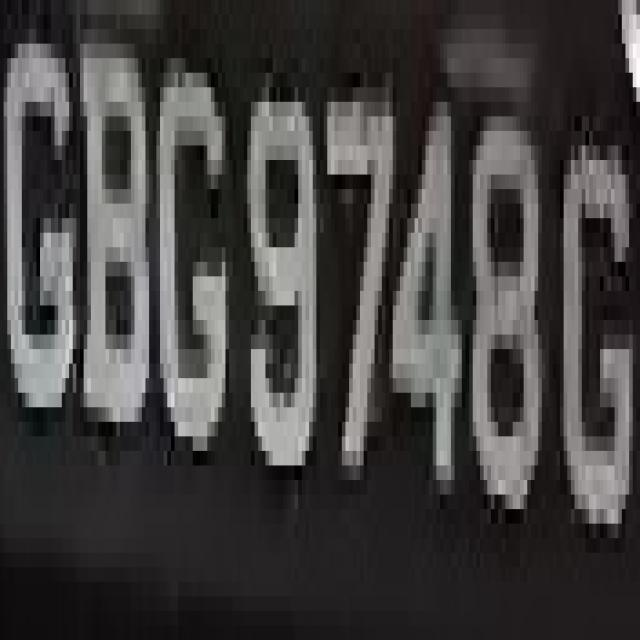4: (389, 44, 466, 538)
7: (320, 87, 396, 480)
8: (458, 88, 549, 568)
9: (247, 43, 324, 466)
B: (80, 0, 149, 465)
G: (549, 131, 636, 582), (153, 44, 229, 480), (0, 0, 76, 407)
